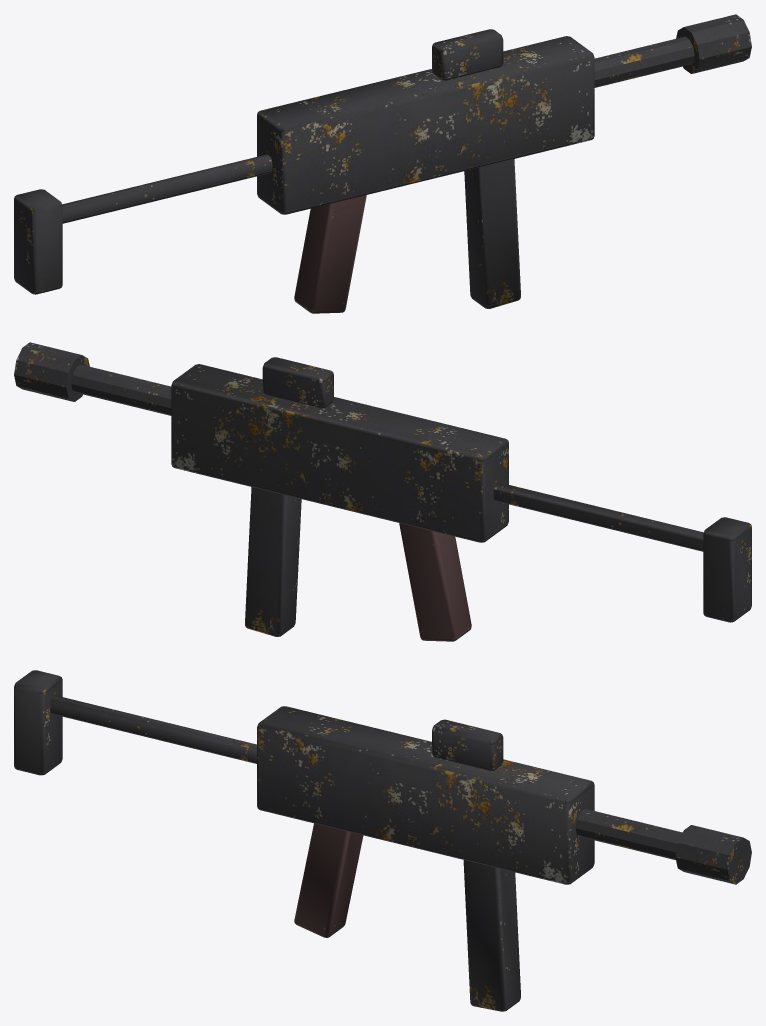
The model's file is held_weapon_smg.glb.
3 renders of one model, top to bottom at view 1: azimuth 30°, elevation 25°; view 2: azimuth 150°, elevation 25°; view 3: azimuth 330°, elevation 25°, orthographic.
Visible parts, largest first — view 1: box, box.002, box.001, box.004, box.003, cyl.001, cyl, box.005; view 2: box, box.002, box.001, box.004, box.003, cyl.001, cyl, box.005; view 3: box, box.002, box.001, box.004, box.003, cyl.001, cyl, box.005.
Boxes of the visible parts, left/top/right/bottom form: box: left=257, top=36, right=594, bottom=214; box.002: left=464, top=159, right=520, bottom=308; box.001: left=294, top=195, right=366, bottom=313; box.004: left=14, top=189, right=62, bottom=294; box.003: left=62, top=154, right=272, bottom=223; cyl.001: left=676, top=14, right=751, bottom=73; cyl: left=594, top=36, right=694, bottom=87; box.005: left=432, top=29, right=503, bottom=80; box: left=171, top=364, right=508, bottom=542; box.002: left=245, top=487, right=301, bottom=636; box.001: left=399, top=523, right=471, bottom=641; box.004: left=703, top=517, right=751, bottom=622; box.003: left=493, top=482, right=703, bottom=551; cyl.001: left=14, top=342, right=89, bottom=401; cyl: left=71, top=364, right=171, bottom=415; box.005: left=262, top=357, right=333, bottom=408; box: left=257, top=706, right=594, bottom=884; box.002: left=463, top=860, right=520, bottom=1011; box.001: left=294, top=823, right=363, bottom=937; box.004: left=14, top=670, right=62, bottom=775; box.003: left=50, top=695, right=256, bottom=763; cyl.001: left=675, top=825, right=751, bottom=884; cyl: left=575, top=808, right=744, bottom=875; box.005: left=432, top=719, right=503, bottom=770.
Bounding box in the file's own units: 0.685 × 0.2455 × 0.045.
Materials: 2 (2 with a texture image).
